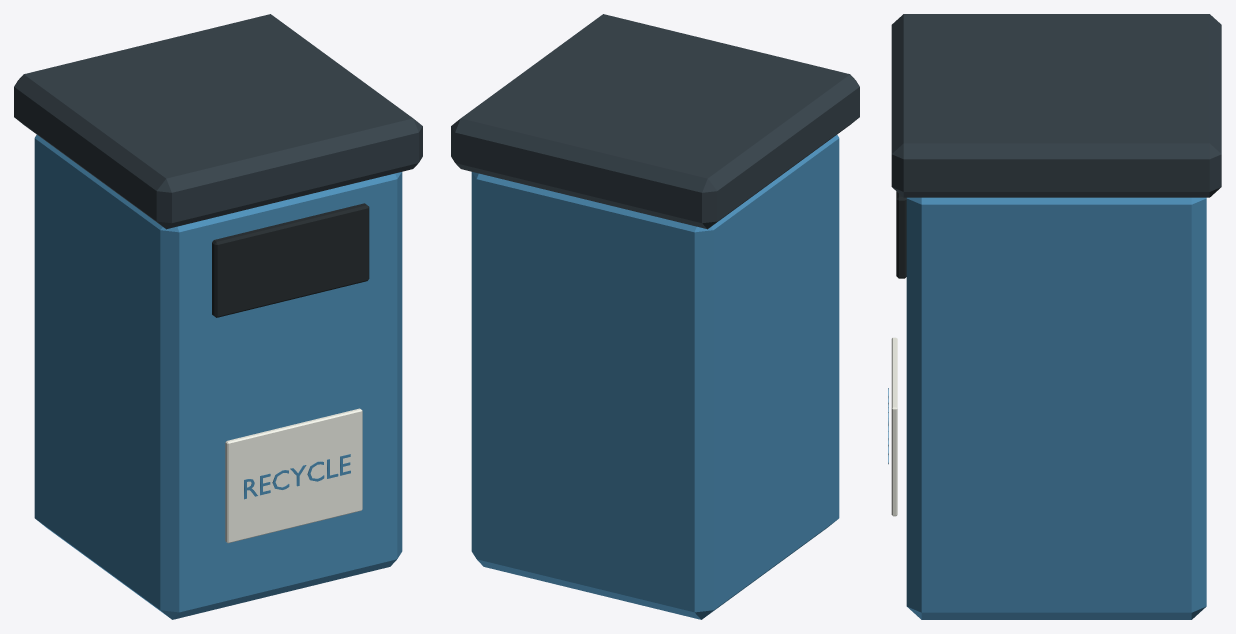
Rendered from Recycling_Bin.glb.
3 views of the same model, side by side, from view 1: azimuth 30°, elevation 25°; view 2: azimuth 150°, elevation 25°; view 3: azimuth 270°, elevation 25° (orthographic). The views are drawn at different scales.
Visible parts, largest first — view 1: Recycling_Bin; view 2: Recycling_Bin; view 3: Recycling_Bin.
Boxes of the visible parts, x1,y1,x2,y2 form: Recycling_Bin: [14, 14, 422, 619]; Recycling_Bin: [451, 14, 859, 619]; Recycling_Bin: [888, 14, 1221, 619].
Size of the model in its own units: 0.55 by 0.89 by 0.5557.
